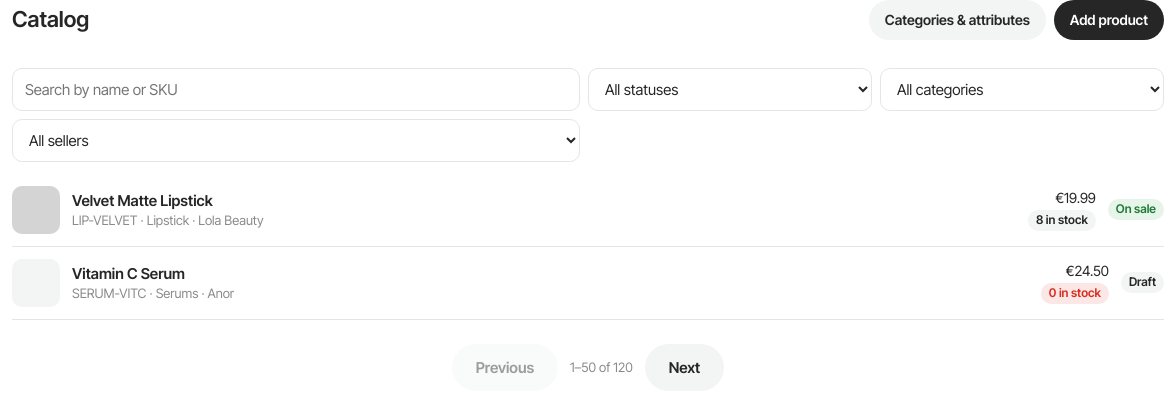
ProductsScreen › pages through long lists
The width and height of the screenshot is (1176, 409).
Expected: the text "1–50 of 120" is shown, [570,358,633,376]
Click the button "Next" at [684, 367], box [645,344,724,391]
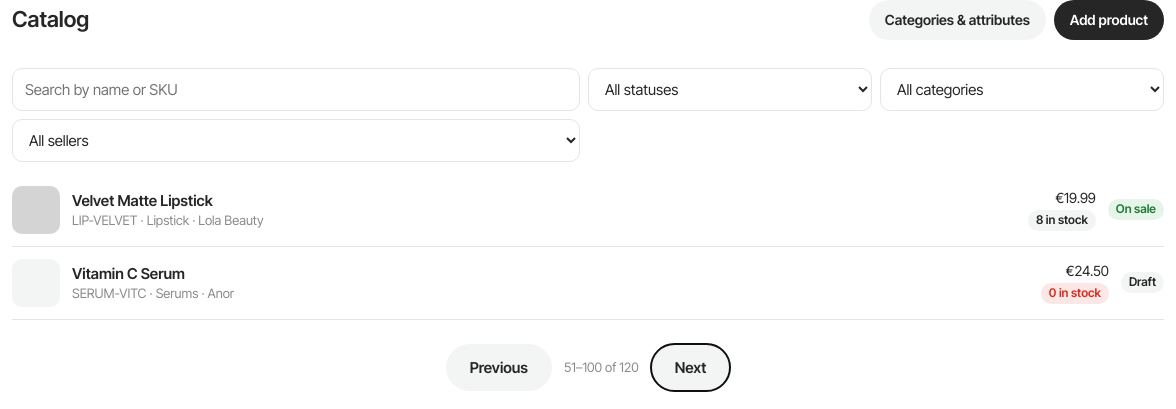
Result: the text "51–100 of 120" is shown at [564,358,639,376]
